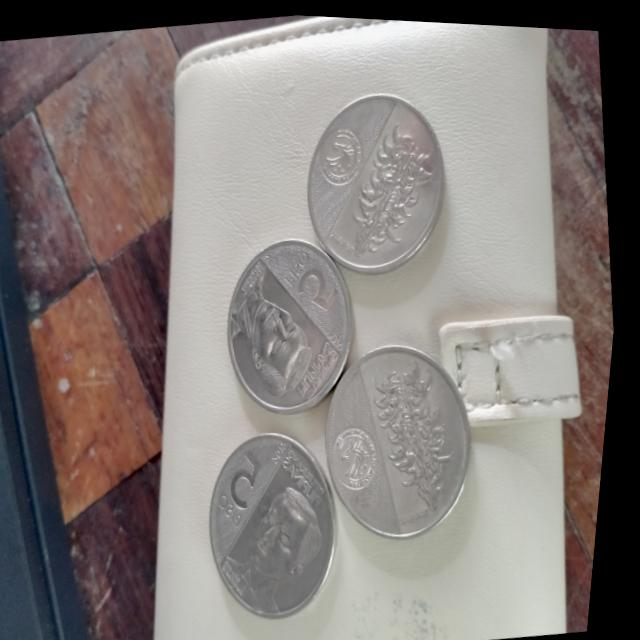5_New_Back: (333, 105, 459, 267), (365, 344, 474, 529)
5_New_Front: (215, 441, 287, 543), (280, 235, 354, 321)
